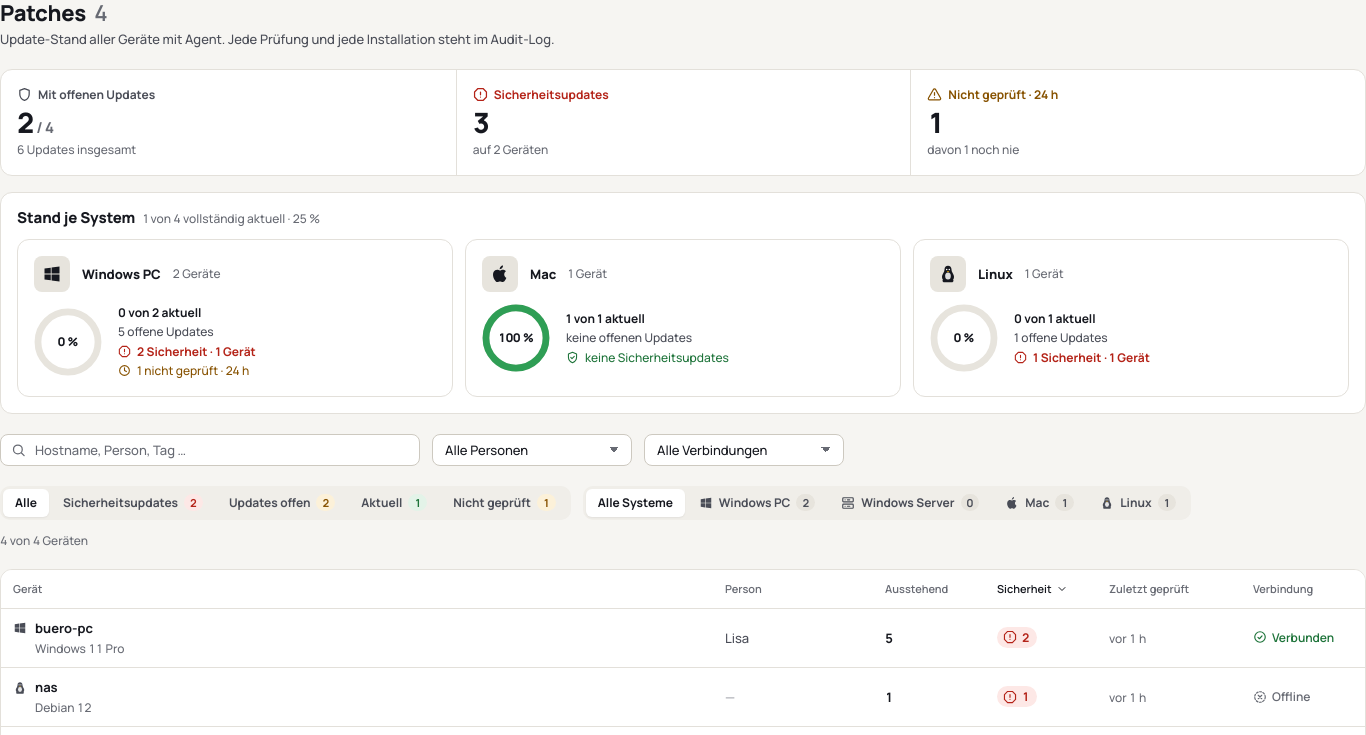
Scenario: PatchesPage Filter › zählt je Filter, was ein Klick zeigen würde
Expected: the tab "Nicht geprüft 1" is shown, [441,489,568,517]
Click the tab "Sicherheitsupdates 2": (133, 503) [51,489,215,517]
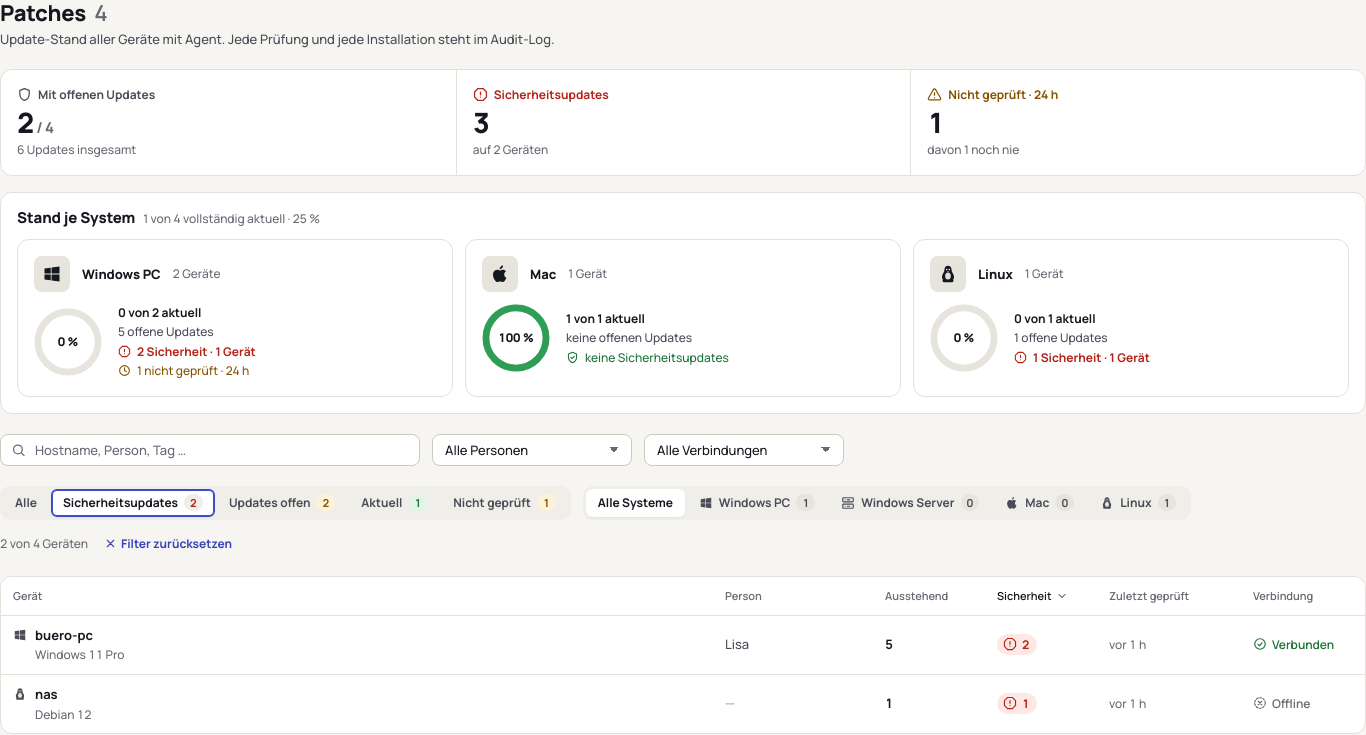
Result: the message reads "2 von 4 Geräten" at [0,535,88,552]
